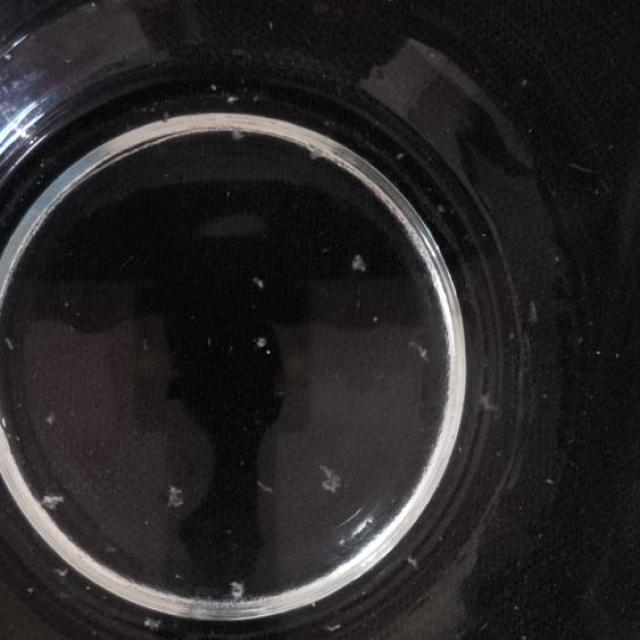fiber: (318, 460, 348, 500), (344, 243, 372, 270), (568, 158, 595, 179), (523, 298, 541, 328), (477, 392, 498, 416), (407, 339, 431, 359), (164, 489, 187, 508), (251, 478, 274, 496), (247, 272, 270, 290), (55, 562, 75, 582), (142, 616, 166, 632), (43, 406, 58, 431), (34, 493, 64, 505), (254, 333, 270, 354), (228, 584, 248, 600), (402, 554, 424, 568), (1, 334, 18, 352), (226, 128, 249, 139), (328, 611, 338, 635), (226, 90, 243, 104), (540, 470, 554, 485), (516, 76, 530, 89)
